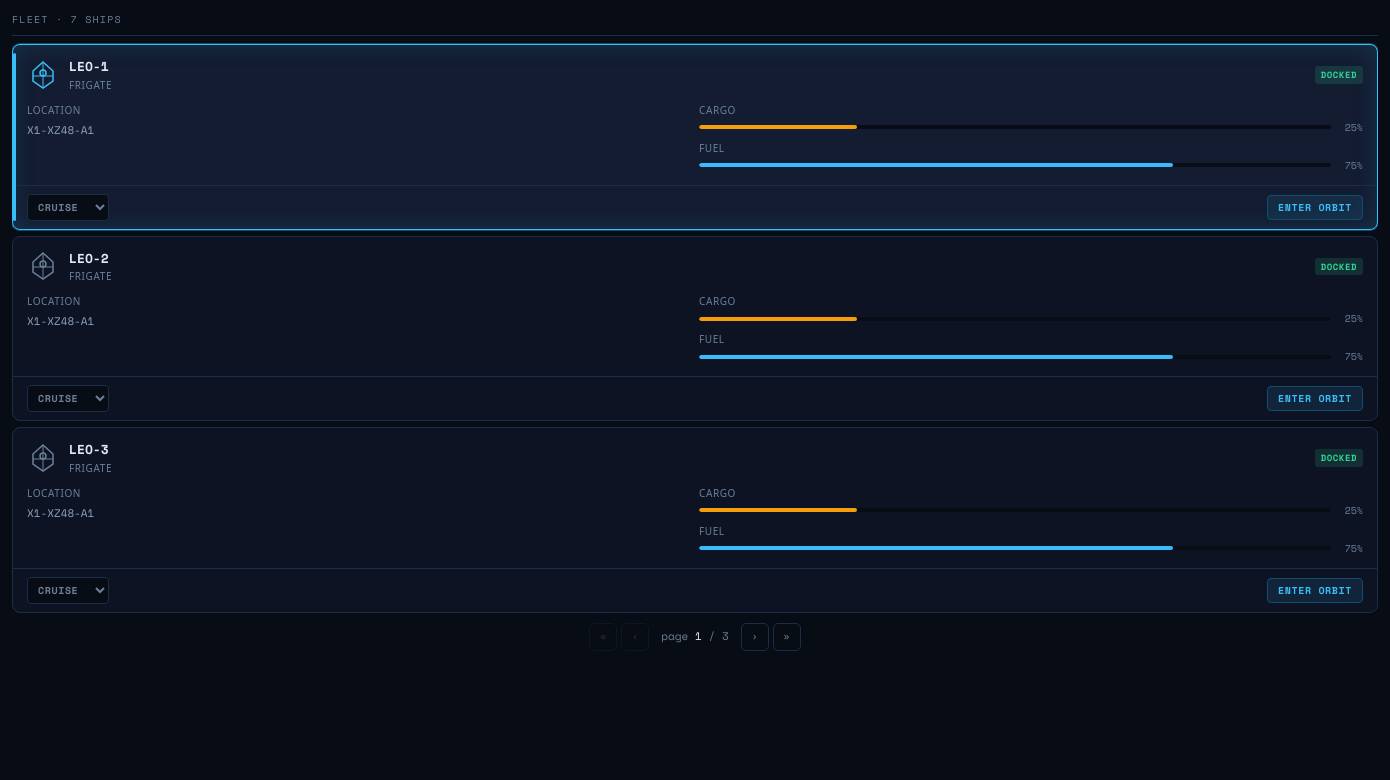
Scenario: FleetList › shows the pagination from 4 ships and moves between pages
Expected: the navigation bar is shown, [589,622,801,650]
Click the button named "Next page" at (755, 636), box [741,622,769,650]
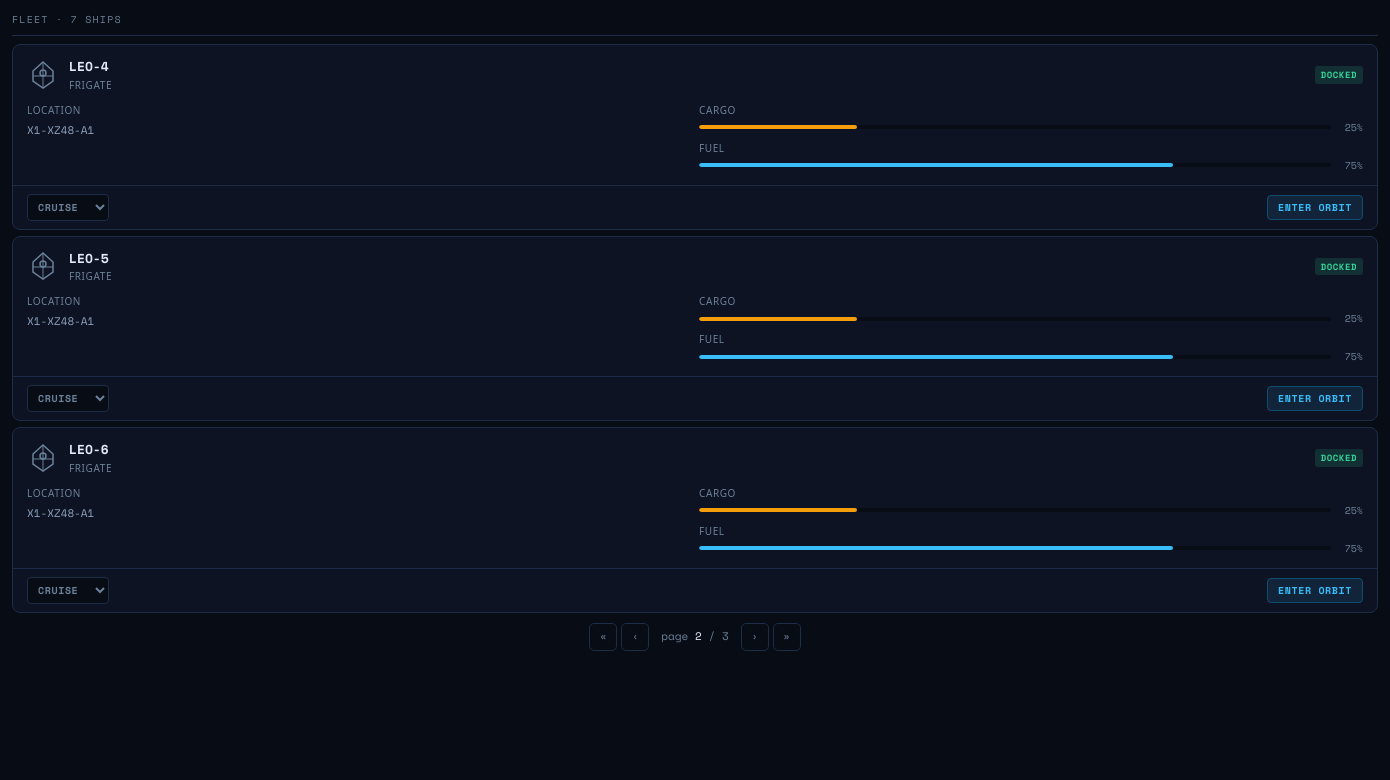
Result: the text "page 2 / 3" is shown at [661,628,729,644]
Result: the text "LEO-4" is shown at [69,56,109,76]
Result: the text "LEO-1" is gone
